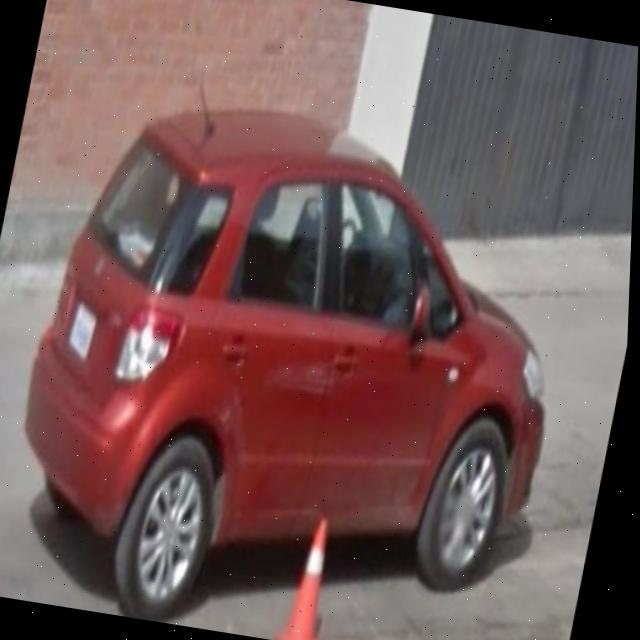vehicle: (0, 75, 605, 640)
